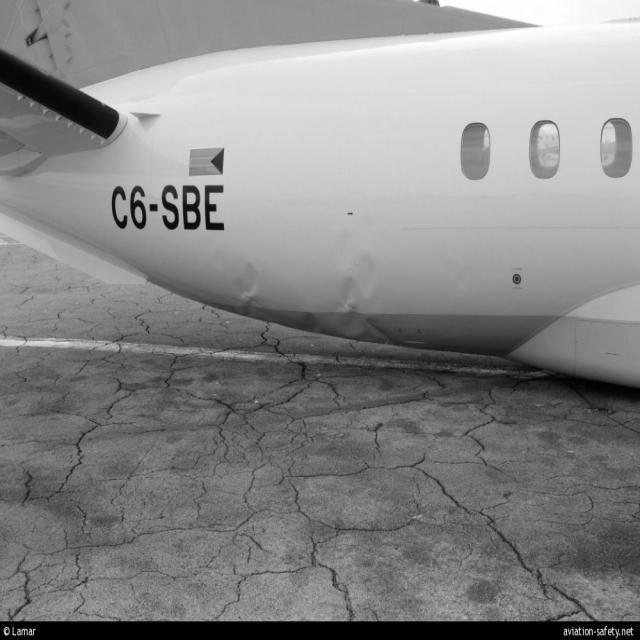dent: (331, 246, 385, 344), (232, 263, 269, 316)
